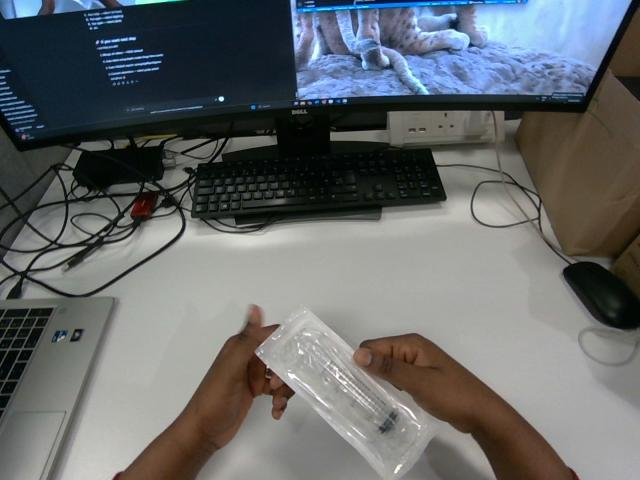syringe: (256, 307, 437, 479)
